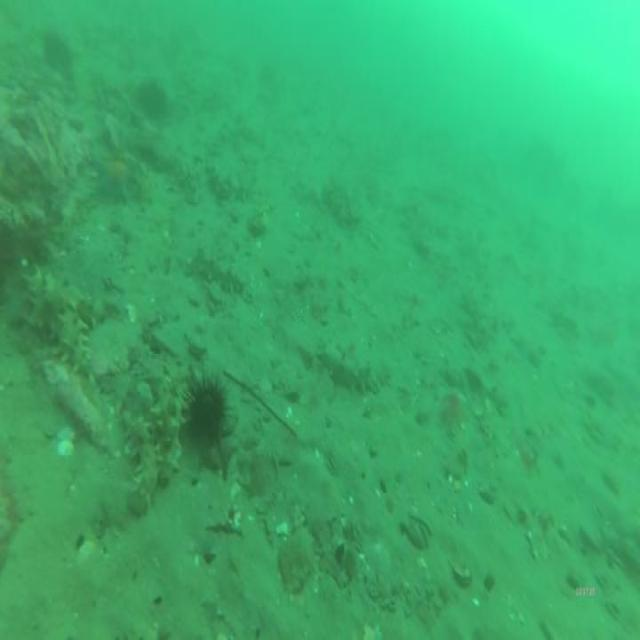echinus: (176, 357, 241, 460), (137, 71, 171, 125), (44, 28, 73, 78)
holothurian: (23, 261, 105, 332), (123, 404, 161, 522), (156, 360, 188, 485), (314, 346, 378, 397), (191, 245, 248, 300), (59, 300, 96, 384)
starfish: (91, 144, 133, 207)
